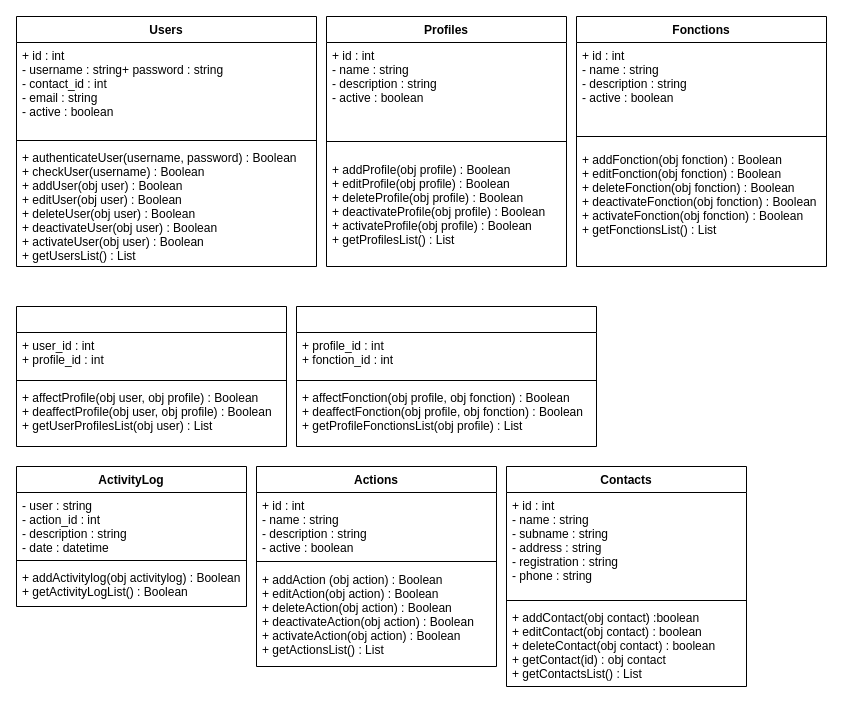
Image size: 843x703. Some labels were removed from this diagram. The shapes that lost their labels are listed below. From the top down, each one's box as (x1, y1, x2, y2) in pixels, then its label:
(16, 306, 286, 446): UsersProfiles
(296, 306, 596, 446): ProfilesFonctions
